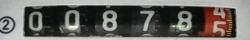digits: (101, 10, 118, 31), (176, 10, 192, 31), (209, 19, 227, 37), (139, 10, 154, 31), (64, 10, 79, 30), (28, 10, 43, 30)
